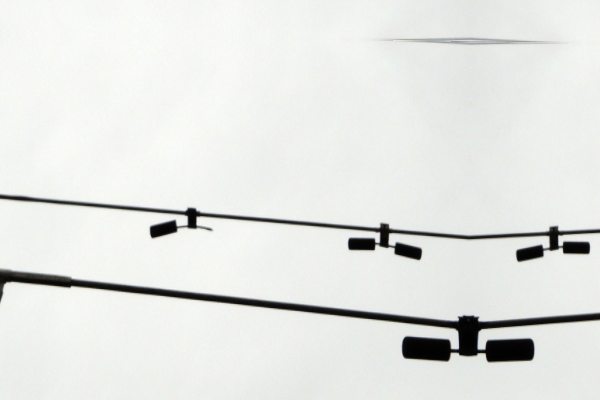damper: (399, 313, 536, 365), (344, 218, 424, 261), (514, 225, 592, 263)
damper_defect: (147, 206, 214, 240)
